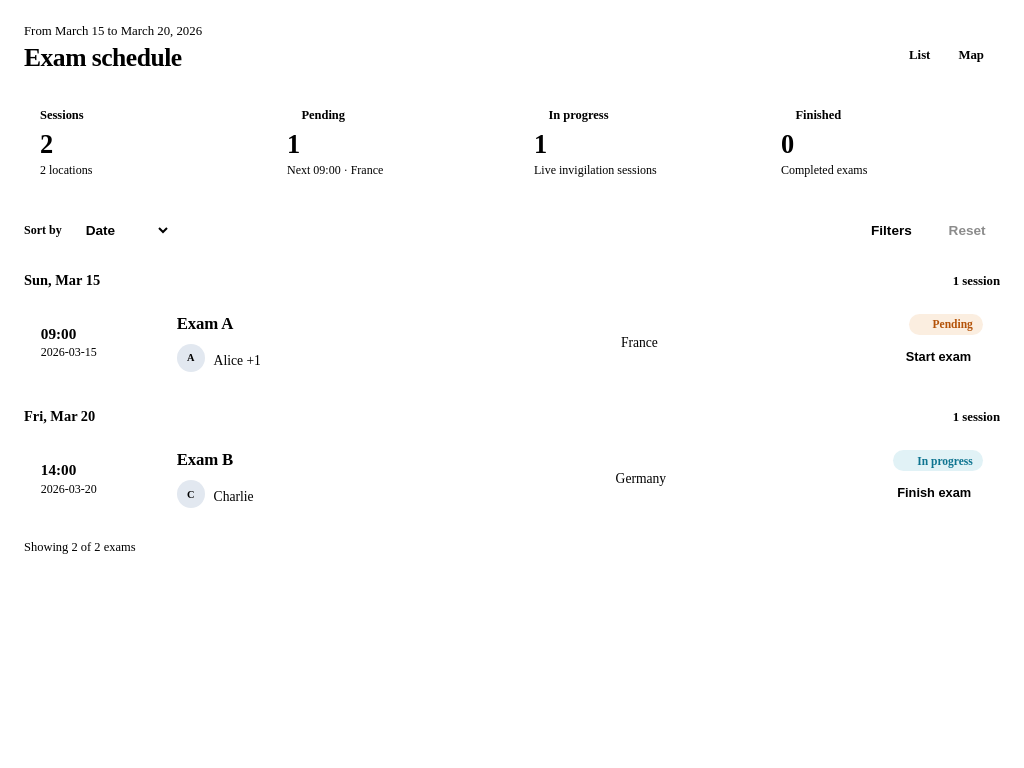
Scenario: ExamList › status overview strip › filters the list when a status count is clicked and clears on a second click
expect the heading "Exam A" is shown: met, box [177,314,233,334]
expect the heading "Exam B" is shown: met, box [177,450,233,470]
Click the button "Pending 1 Next 09:00 · France": {"x": 388, "y": 143} [271,93,506,193]
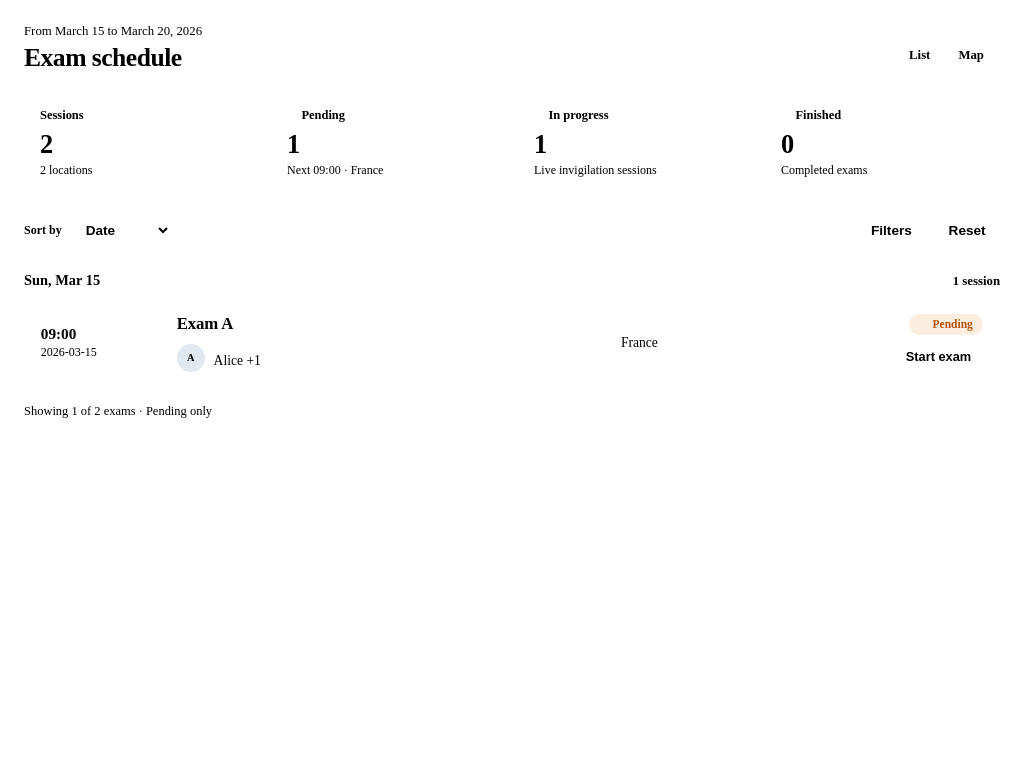
expect the heading "Exam A" is shown: met, box [177,314,233,334]
expect the heading "Exam B" is gone: met
expect the text "Showing 1 of 2 exams · Pending only" is shown: met, box [24,404,212,418]
Click the button "Pending 1 Next 09:00 · France": {"x": 388, "y": 143} [271,93,506,193]
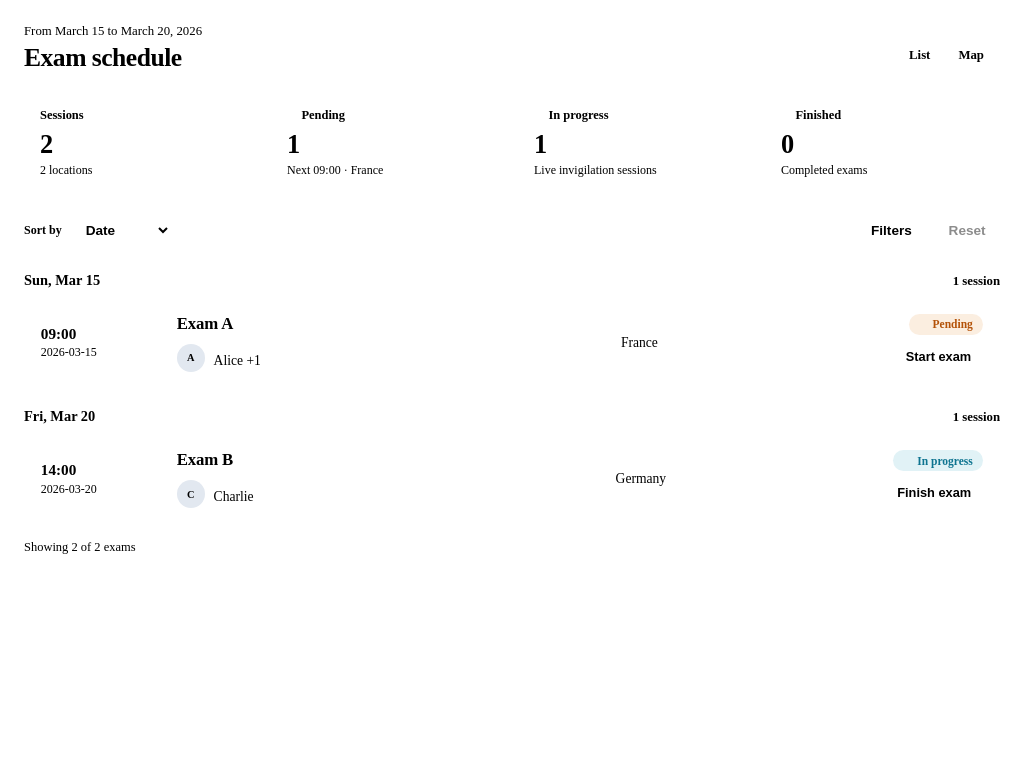
expect the heading "Exam A" is shown: met, box [177,314,233,334]
expect the heading "Exam B" is shown: met, box [177,450,233,470]
expect the text "Showing 2 of 2 exams" is shown: met, box [24,540,136,554]
